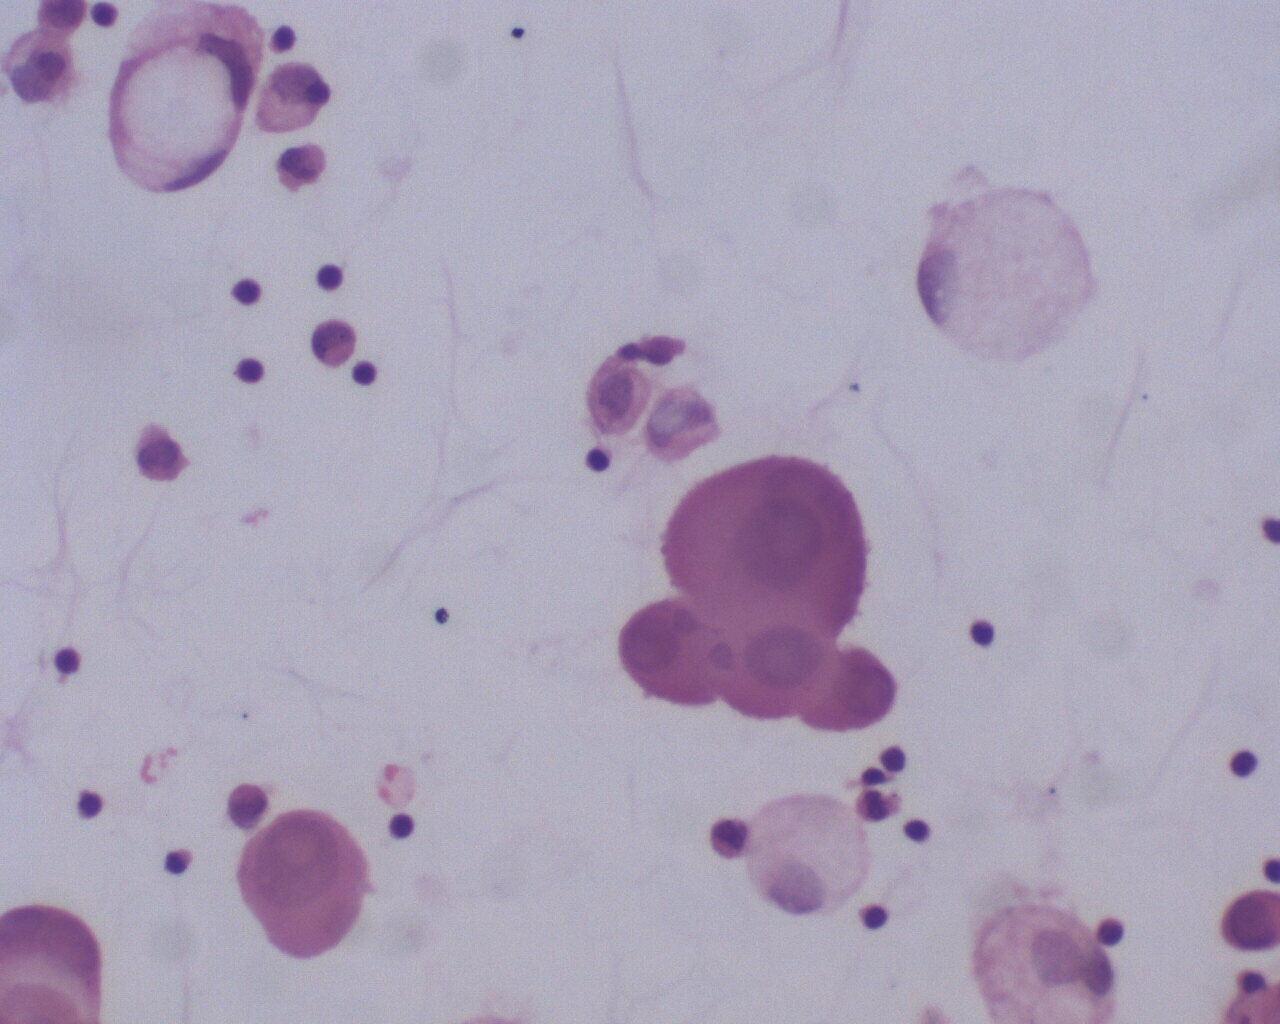ab: (656, 450, 871, 642), (235, 807, 371, 962), (805, 647, 905, 735)
histo: (909, 181, 1096, 370), (742, 791, 882, 921)
lymph: (961, 612, 1009, 652), (1224, 742, 1265, 783), (44, 642, 85, 681), (229, 351, 271, 389), (315, 258, 354, 296), (385, 811, 425, 847)
